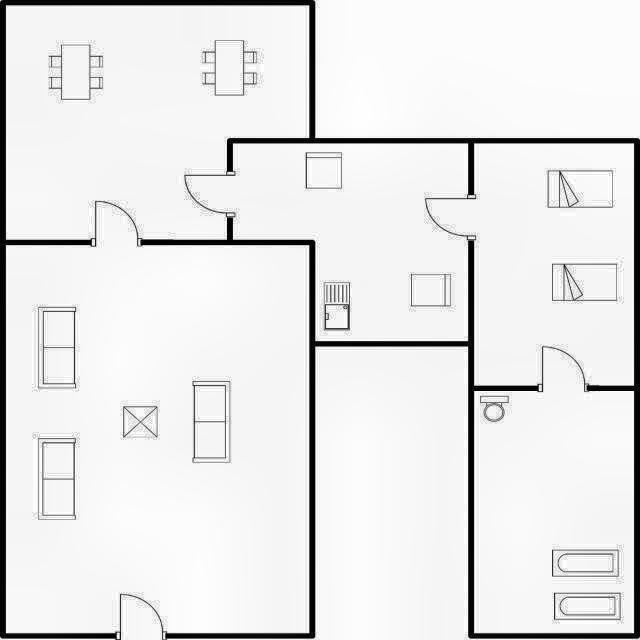room: (7, 245, 310, 634), (6, 5, 309, 240), (233, 143, 468, 341), (476, 392, 635, 634), (475, 143, 633, 385)
